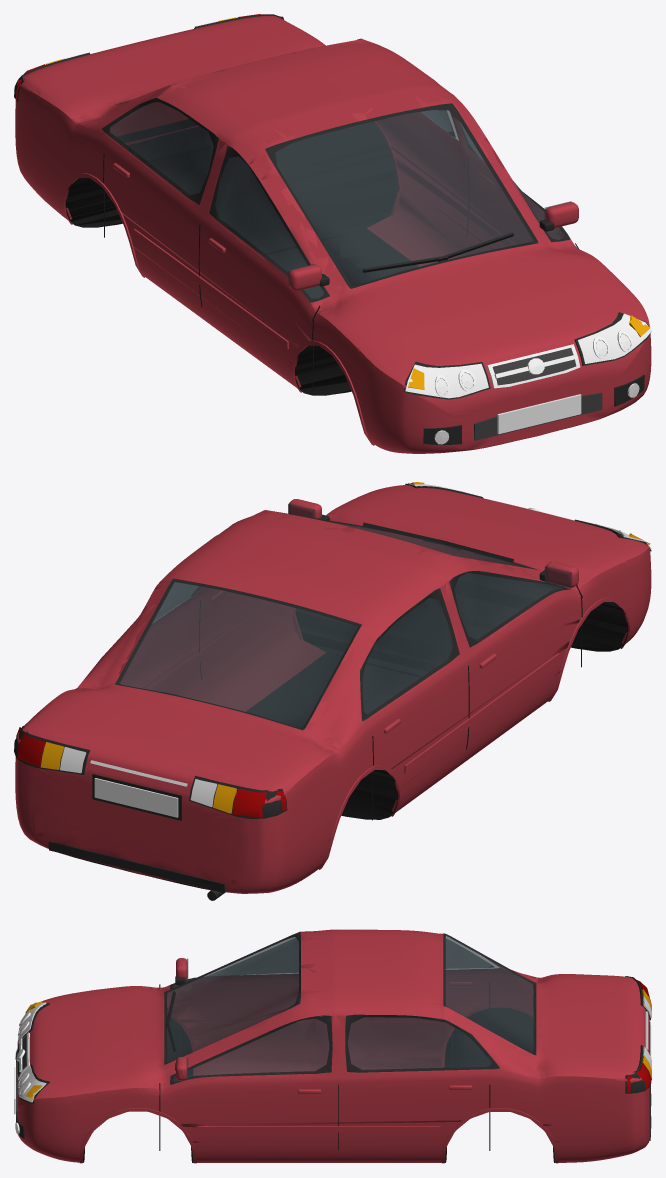
File: priora.glb
3 renders of one model, top to bottom at view 1: azimuth 30°, elevation 25°; view 2: azimuth 150°, elevation 25°; view 3: azimuth 270°, elevation 25°, orthographic. The views are drawn at different scales.
Parts seen in each view (by area): view 1: LOD_hi, LOD0; view 2: LOD_hi, LOD0; view 3: LOD_hi, LOD0.
Part boxes in pixels (x1,y1,x2,y2): LOD_hi: (14,14,651,453); LOD0: (17,14,648,449); LOD_hi: (14,482,651,893); LOD0: (15,482,650,900); LOD_hi: (14,929,651,1163); LOD0: (14,931,651,1162).
Size of what is drawn, in the model's own units: 1.8 by 1.23 by 4.39.
